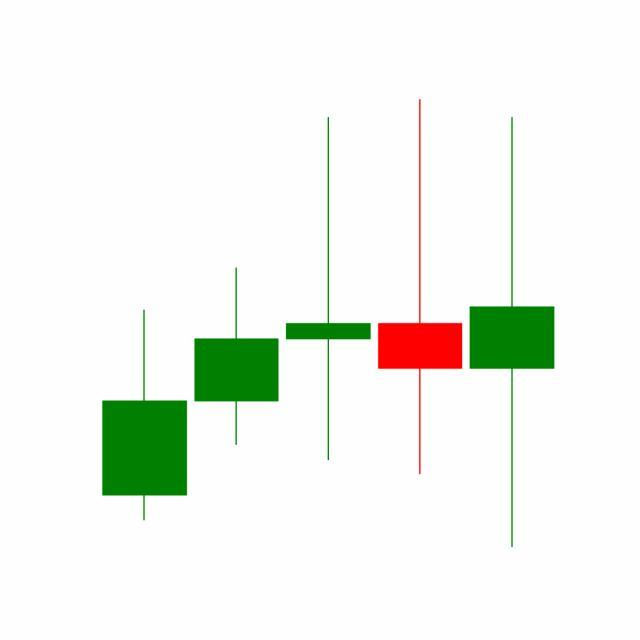Spinning Top: (374, 96, 468, 480)
